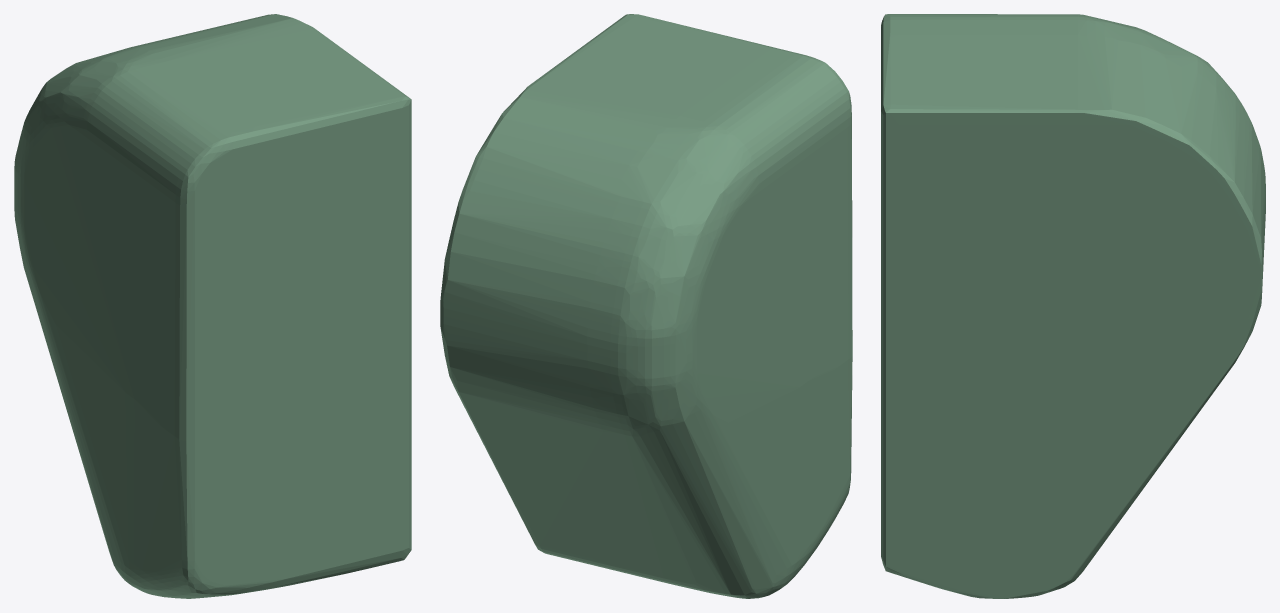
The model's file is right_palm_part_0.obj.
3 views of the same model, side by side, from view 1: azimuth 30°, elevation 25°; view 2: azimuth 150°, elevation 25°; view 3: azimuth 270°, elevation 25° (orthographic).
Bounding box in the file's own units: 16.35 × 33.29 × 23.49.
